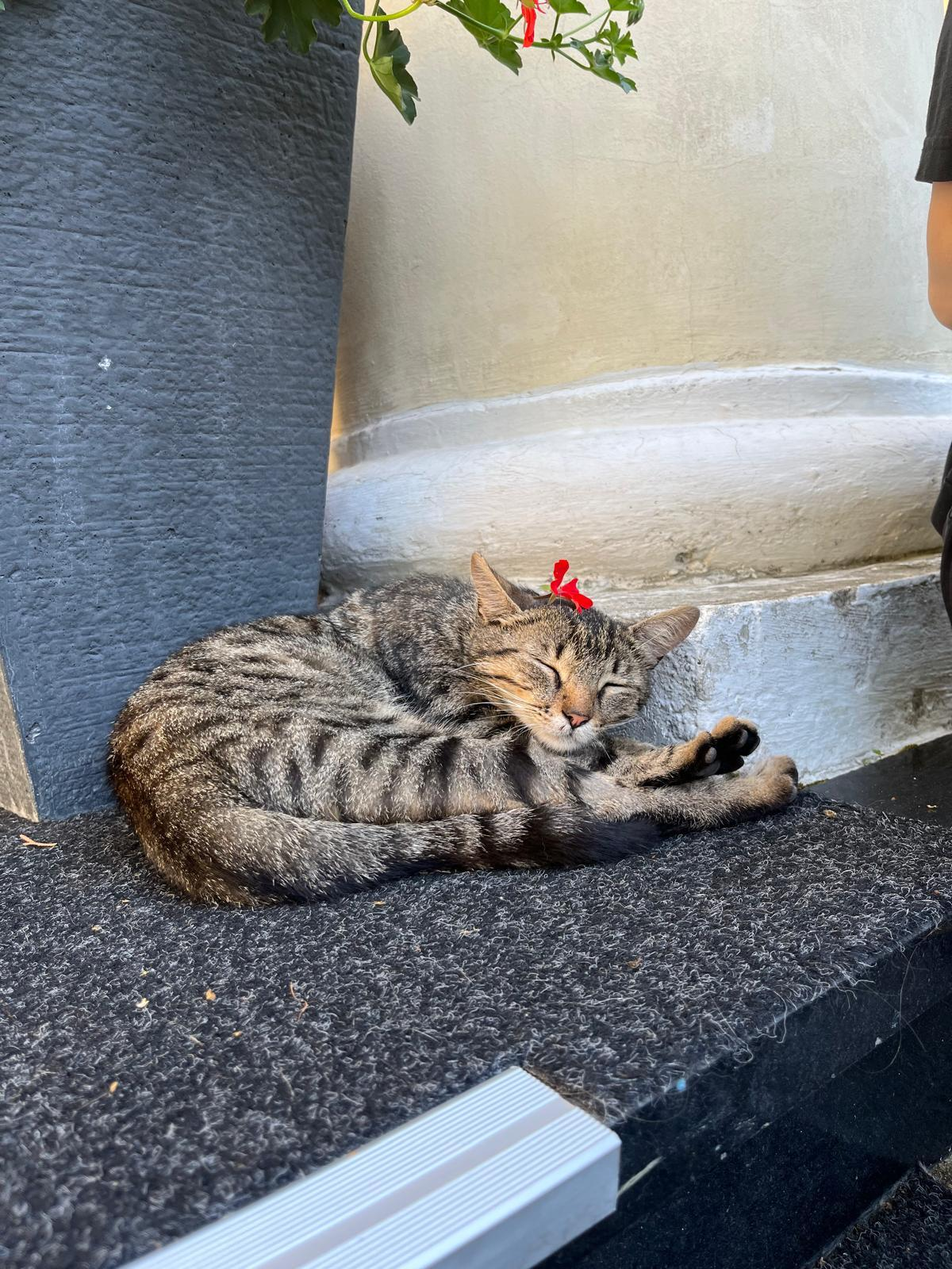macka: (109, 548, 801, 904)
